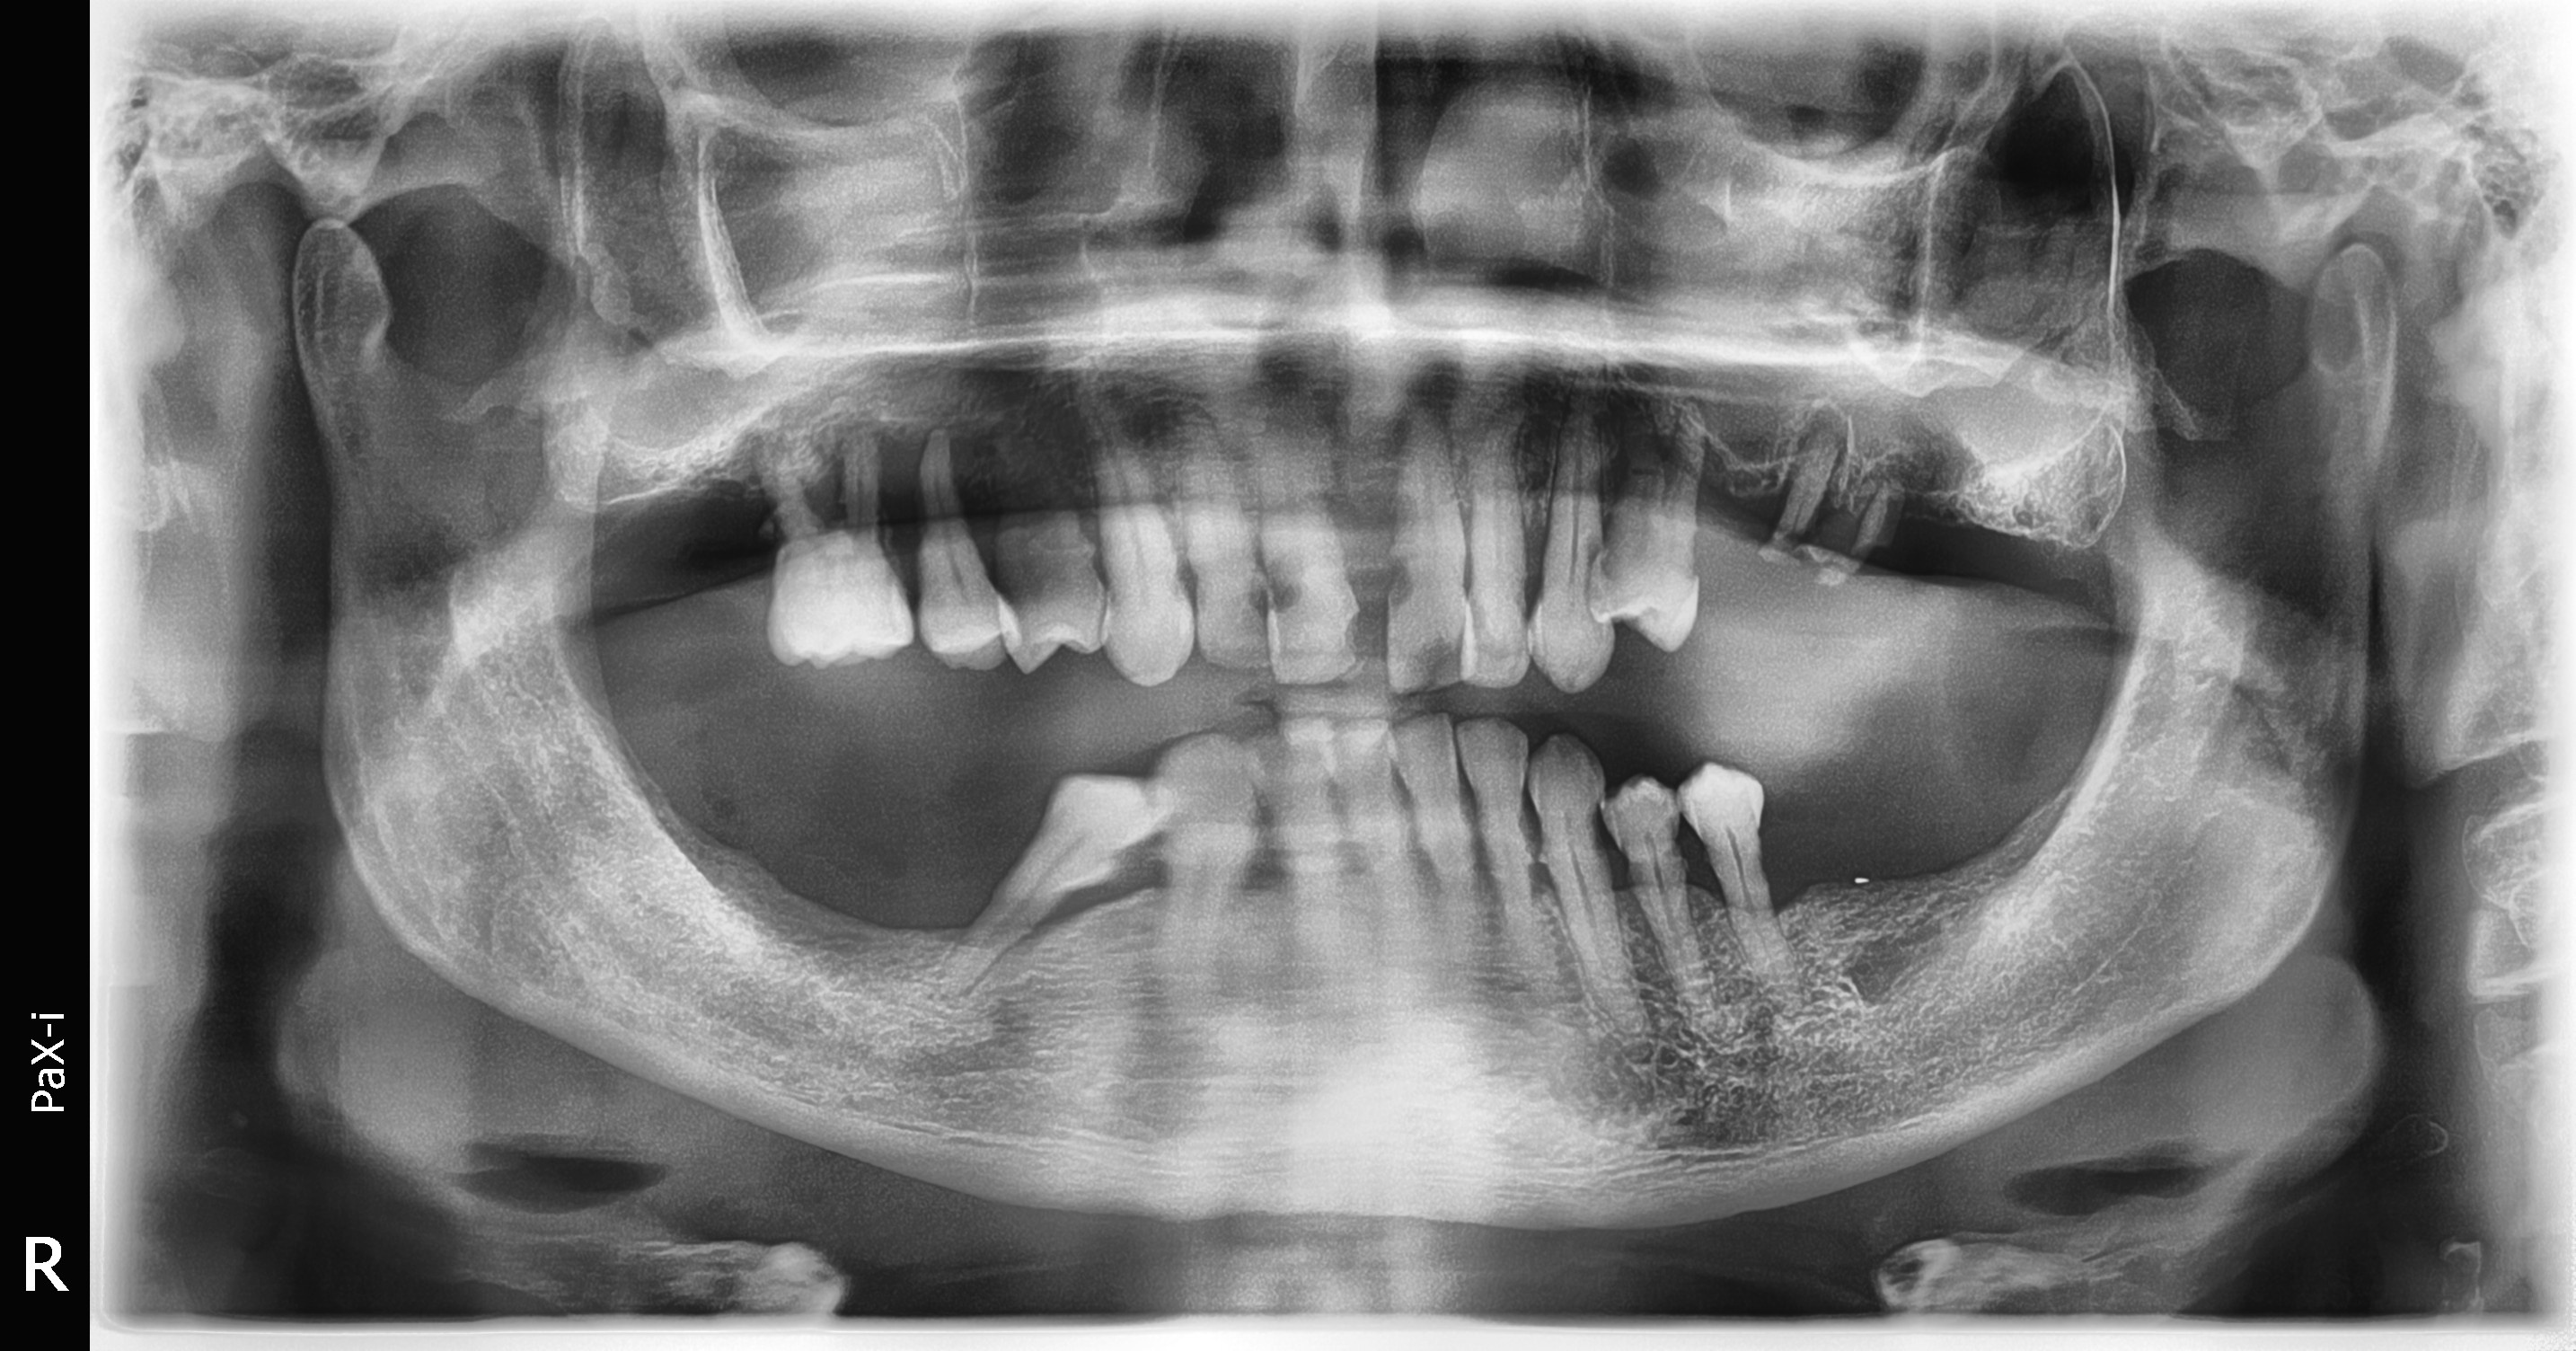API: (838, 162, 2576, 629)
BON: (831, 383, 2576, 1315), (802, 390, 2552, 1312), (762, 371, 2419, 1286), (734, 366, 2307, 1281), (421, 385, 1573, 1348), (806, 167, 2549, 721), (767, 177, 2401, 695)
CAR: (806, 366, 2501, 1244), (763, 223, 2377, 814), (639, 233, 2077, 852), (584, 239, 1859, 876), (596, 242, 1920, 852)
ROT: (801, 140, 2576, 736), (837, 158, 2576, 746)
